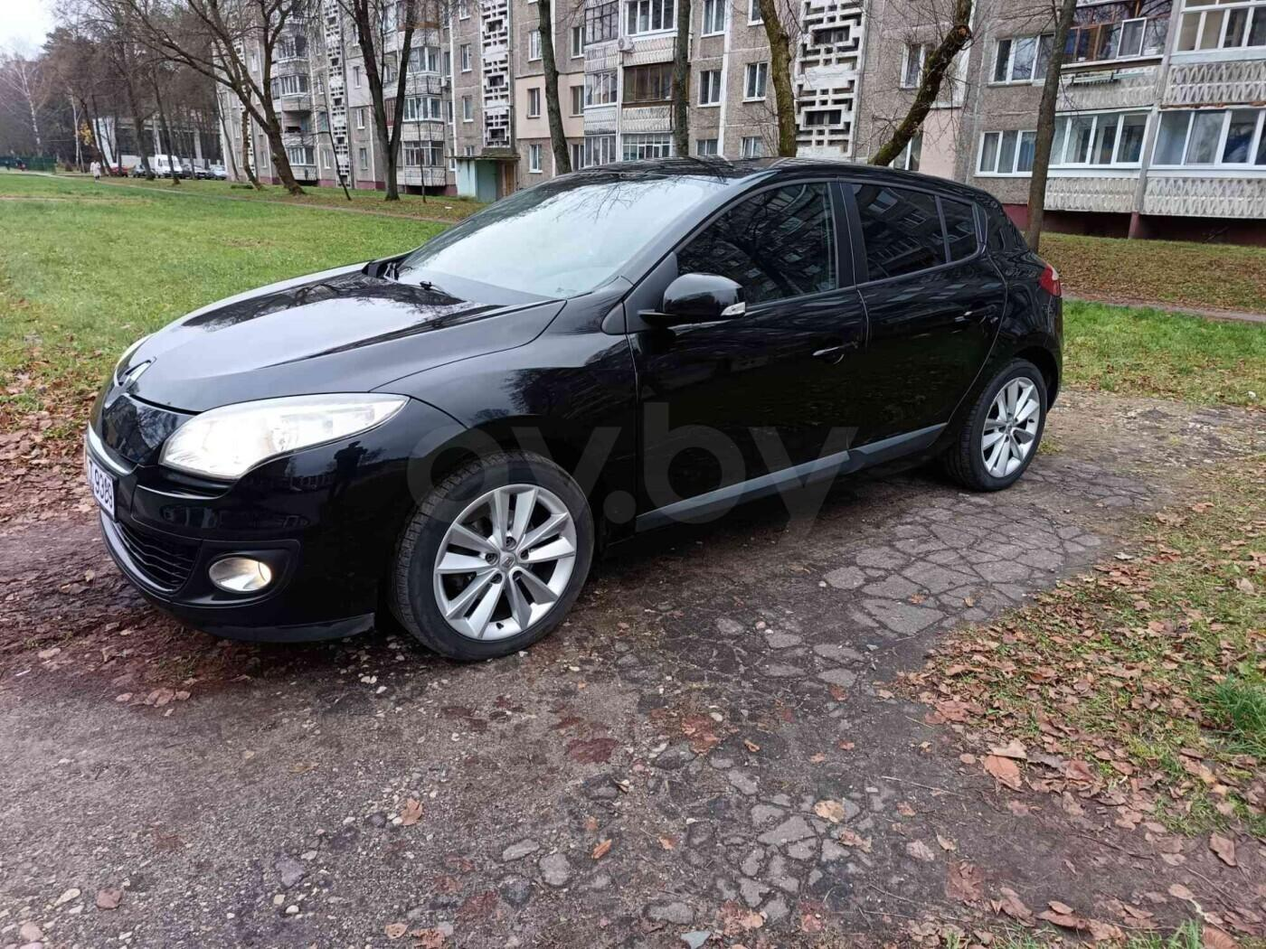Megane_2008-2014: (81, 147, 1072, 661)
